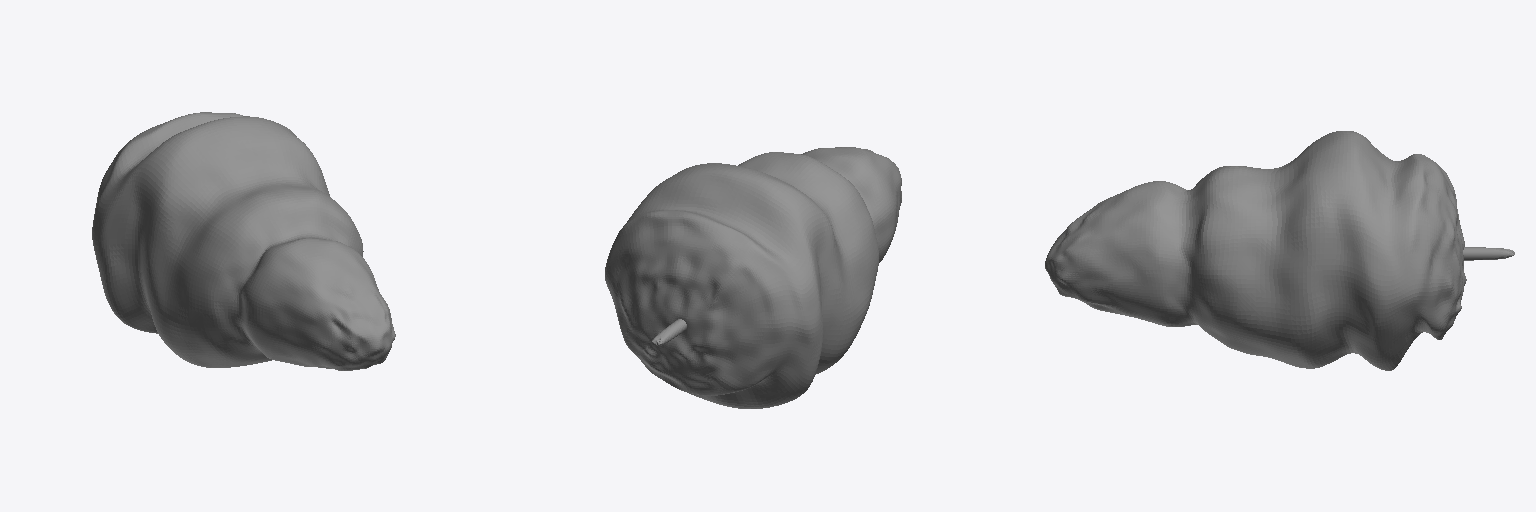
Rendered from poplar.obj.
The picture shows the model from 3 angles: view 1: azimuth 30°, elevation 25°; view 2: azimuth 150°, elevation 25°; view 3: azimuth 270°, elevation 25°; orthographic projection.
Visible parts, largest first — view 1: 10460_Yellow_Poplar_Tree_v1_SG; view 2: 10460_Yellow_Poplar_Tree_v1_SG; view 3: 10460_Yellow_Poplar_Tree_v1_SG.
Boxes of the visible parts, box(x1,y1,x2,y2) form: 10460_Yellow_Poplar_Tree_v1_SG: box(92, 112, 395, 370); 10460_Yellow_Poplar_Tree_v1_SG: box(605, 147, 901, 408); 10460_Yellow_Poplar_Tree_v1_SG: box(1045, 131, 1514, 370).
Bounding box in the file's own units: 502 × 506 × 980.